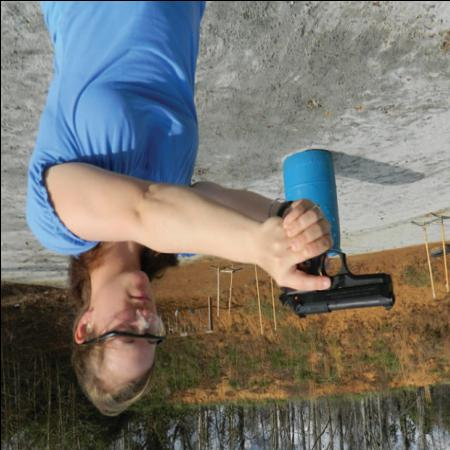Pistol: (278, 202, 394, 317)
